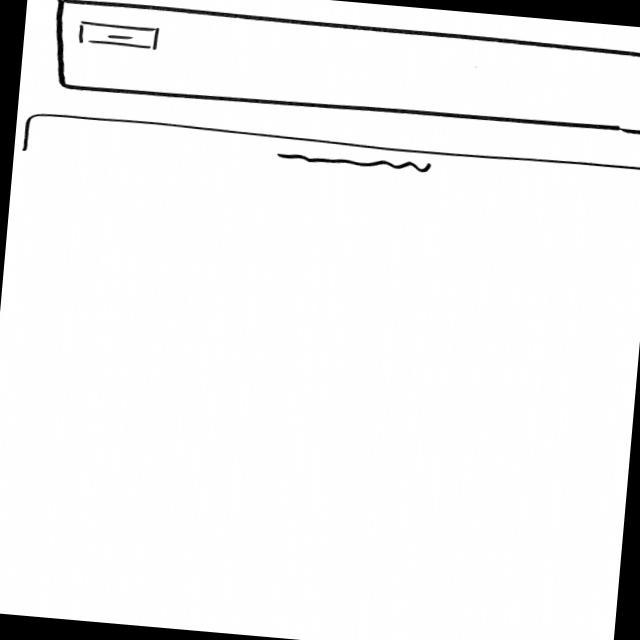container: (46, 1, 640, 141)
icon-button: (75, 21, 160, 52)
text: (277, 149, 434, 177)
